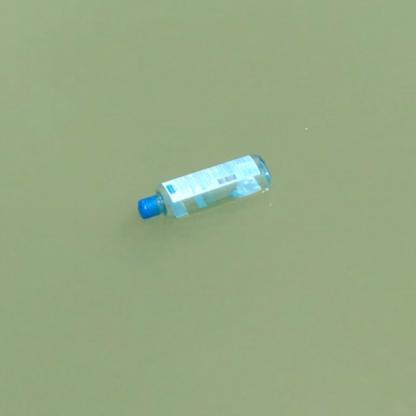plastic bottle: (138, 153, 271, 220)
